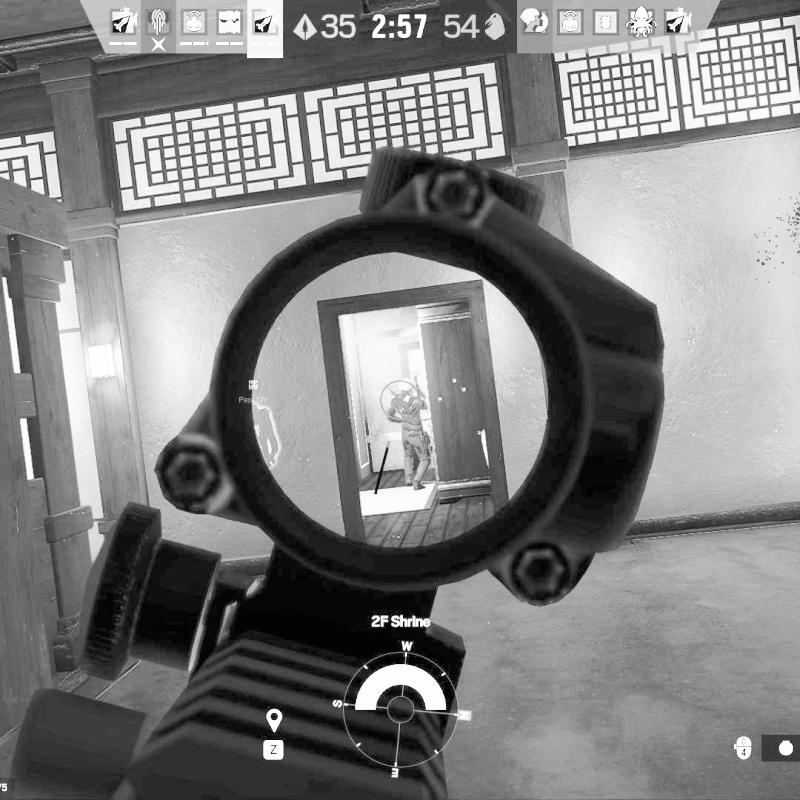Character: (387, 377, 435, 493)
Friend_label: (238, 378, 270, 404)
Head: (399, 378, 414, 397)
